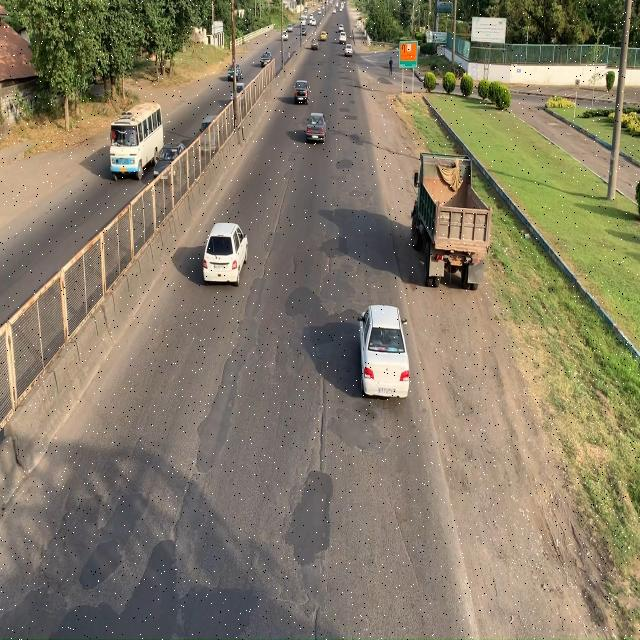Bus: (110, 104, 160, 183)
Truck: (411, 150, 494, 294)
cars: (360, 306, 408, 394), (204, 222, 247, 285), (305, 112, 327, 147)
